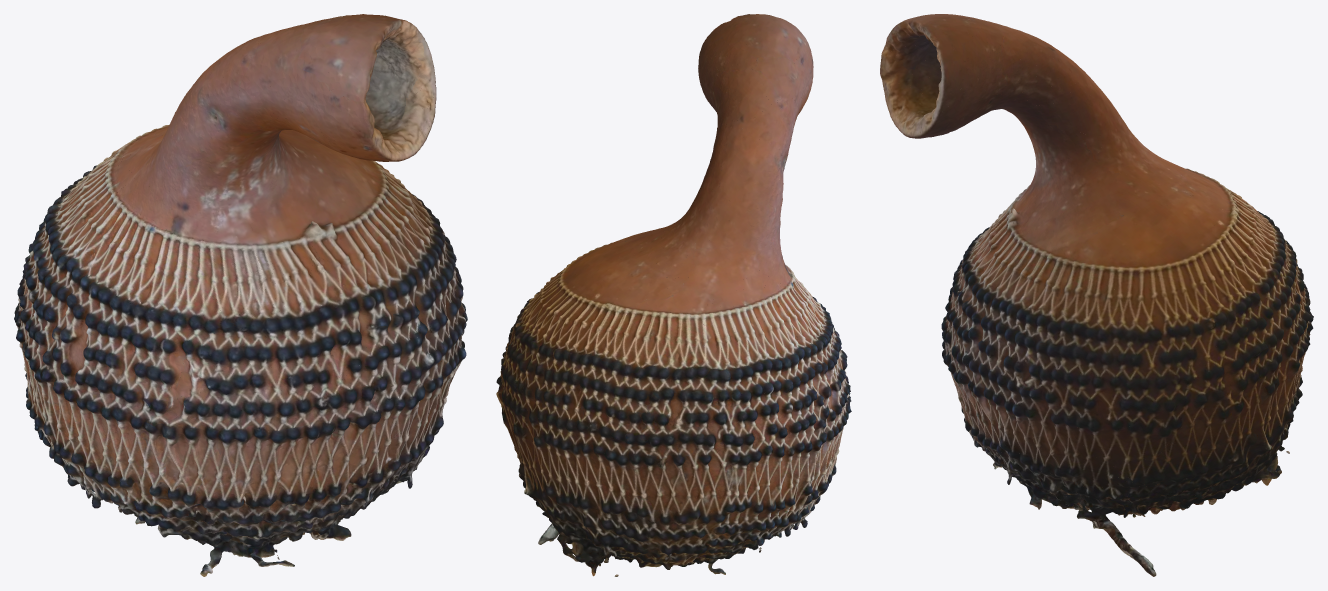
File: axatse.glb
3 views of the same model, side by side, from view 1: azimuth 30°, elevation 25°; view 2: azimuth 150°, elevation 25°; view 3: azimuth 270°, elevation 25° (orthographic). The views are drawn at different scales.
Parts seen in each view (by area): view 1: Object_2, Object_4, Object_3; view 2: Object_2, Object_3, Object_4; view 3: Object_2, Object_3, Object_4.
Part boxes in pixels (x1=…): Object_2: x1=41, y1=19, x2=467, y2=538; Object_4: x1=21, y1=15, x2=460, y2=576; Object_3: x1=14, y1=14, x2=435, y2=566; Object_2: x1=496, y1=46, x2=839, y2=544; Object_3: x1=496, y1=14, x2=851, y2=576; Object_4: x1=496, y1=35, x2=851, y2=576; Object_2: x1=892, y1=22, x2=1313, y2=501; Object_3: x1=884, y1=14, x2=1313, y2=576; Object_4: x1=880, y1=19, x2=1307, y2=514.
Bounding box in the file's own units: 0.2169 × 0.32 × 0.2519.
Materials: 1 (1 with a texture image).
